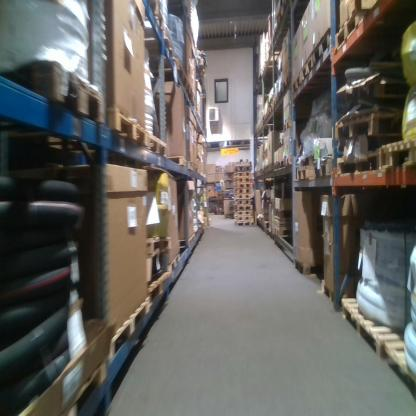pallet: (1, 60, 104, 126), (15, 350, 108, 416), (341, 293, 399, 376), (107, 291, 152, 362), (107, 104, 149, 151), (334, 108, 396, 139), (334, 10, 373, 53), (338, 149, 378, 182), (129, 2, 164, 34), (148, 58, 186, 87), (314, 29, 334, 78), (148, 269, 172, 306), (377, 141, 399, 181), (147, 125, 166, 159), (313, 154, 334, 184), (145, 232, 171, 252), (293, 259, 322, 276), (296, 163, 316, 186), (302, 53, 315, 88), (168, 252, 181, 279), (178, 233, 197, 249), (168, 156, 188, 169), (196, 53, 206, 79), (293, 71, 301, 97), (282, 72, 291, 95), (274, 226, 292, 237), (185, 81, 191, 103), (283, 121, 294, 132), (234, 171, 251, 178), (234, 182, 251, 189), (234, 194, 252, 200), (191, 91, 196, 112), (234, 165, 251, 171), (235, 205, 252, 211), (234, 189, 252, 194), (234, 200, 252, 205), (235, 211, 253, 216), (235, 216, 253, 221), (278, 85, 283, 102), (187, 159, 194, 171), (284, 158, 293, 167), (268, 163, 274, 175), (235, 221, 253, 225), (234, 178, 251, 182), (279, 160, 284, 171), (274, 93, 278, 106), (274, 161, 278, 173)
pallet_truck: (214, 187, 224, 215)
